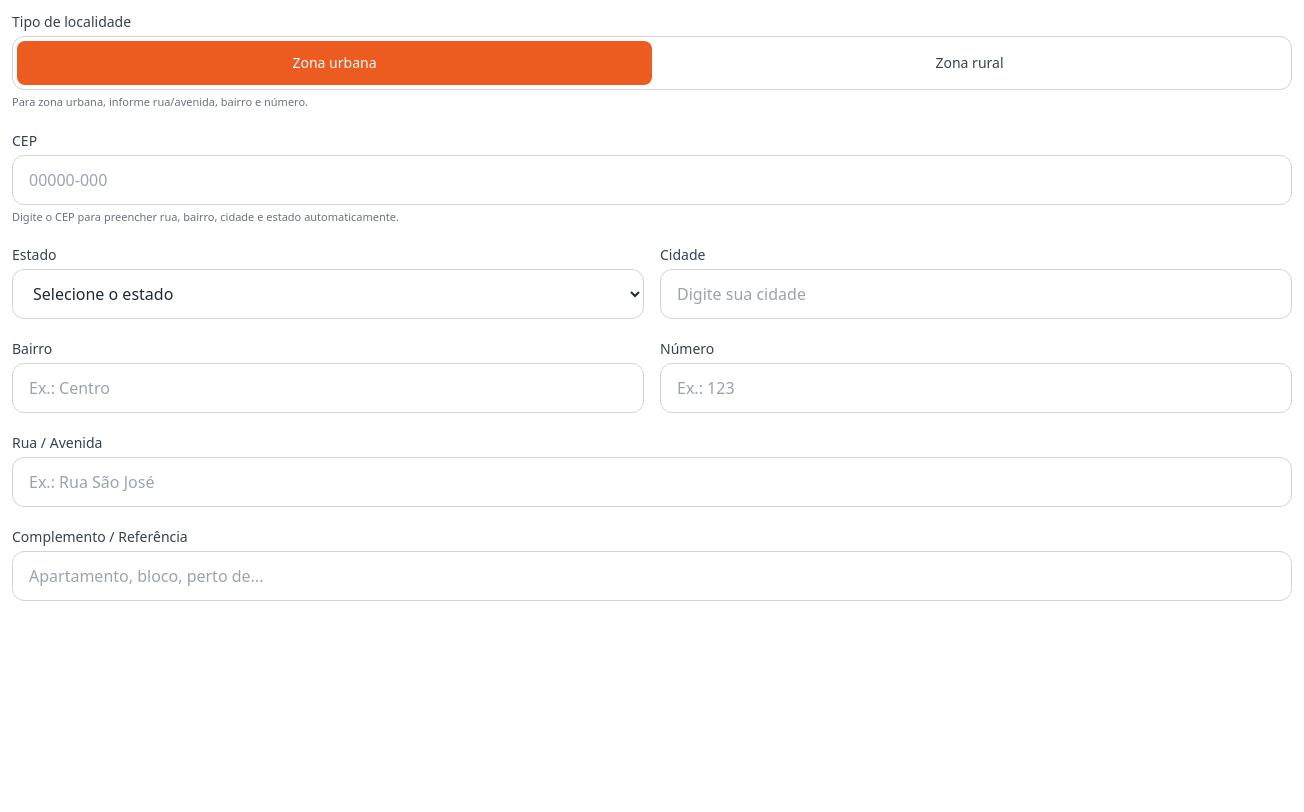
Test: AddressForm (src/components/checkout/AddressForm.tsx) › máscara de CEP: ao digitar 8 dígitos, o input deve ficar 00000-000 (com Harness controlando state)
The width and height of the screenshot is (1304, 812).
In the field labelled "CEP": (652, 180) [12, 154, 1292, 204], type "12345678"
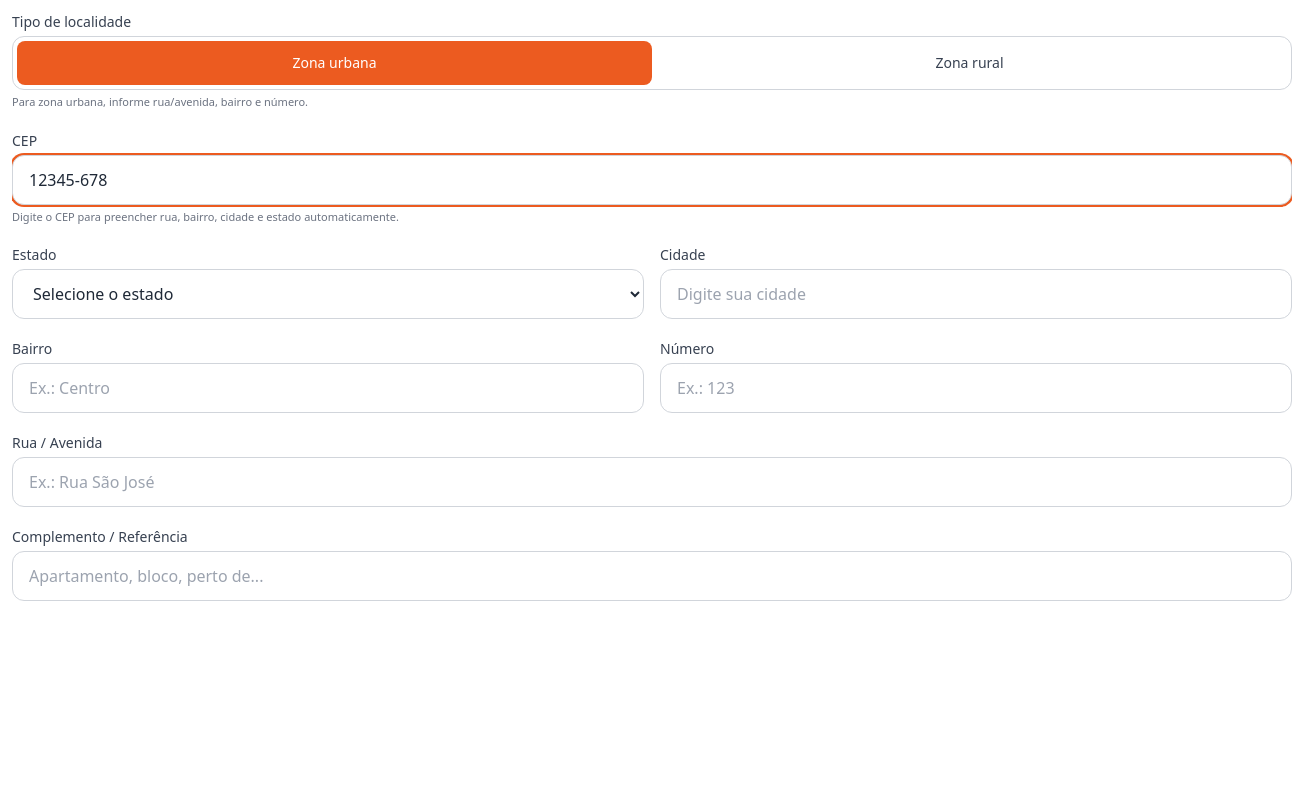
Now the field labelled "CEP" holds "12345-678", box [12, 154, 1292, 204]
